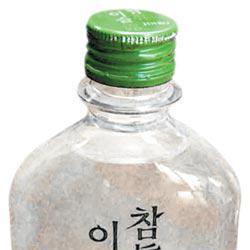soju: (7, 5, 242, 250)
